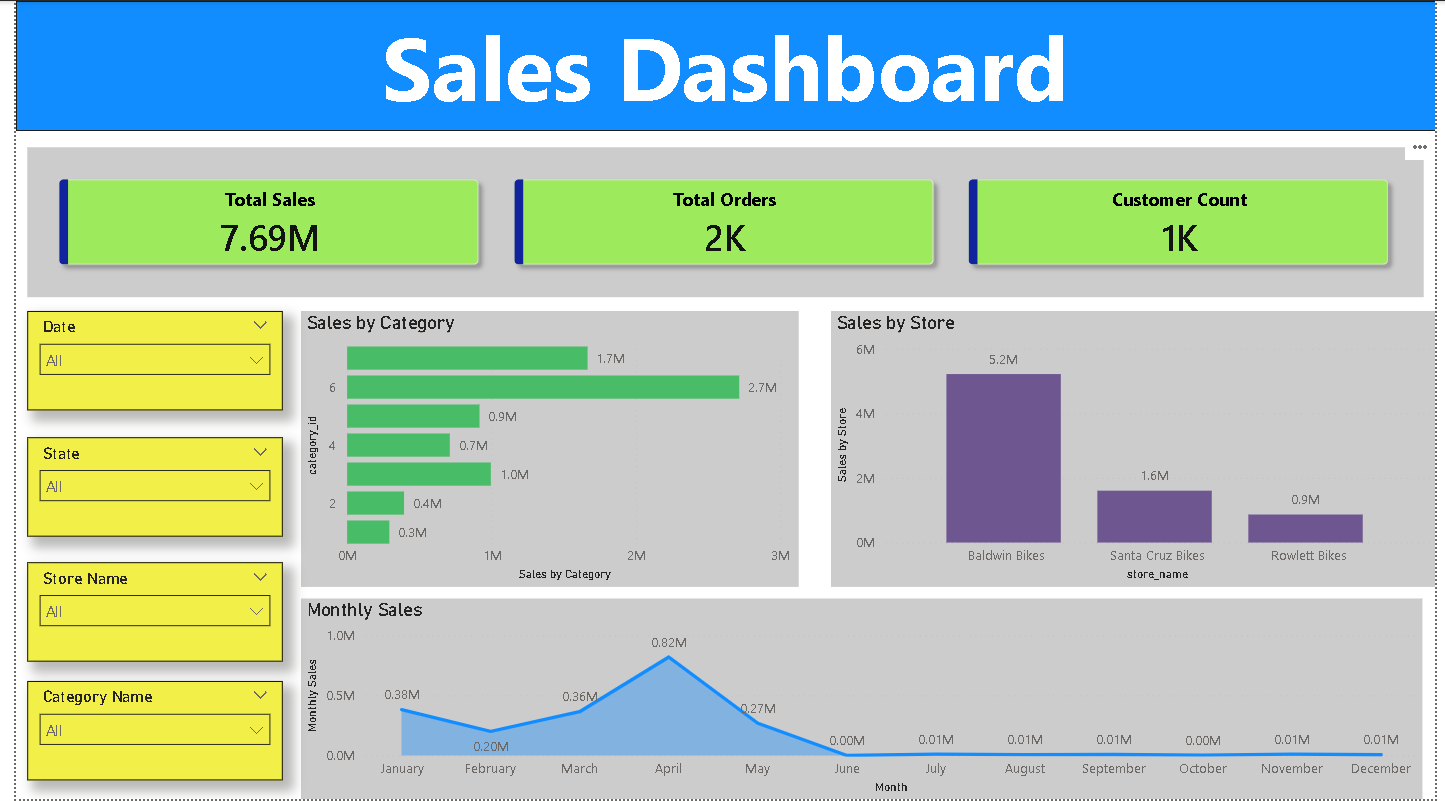

The page's visual inventory and layout, read from the dashboard file:
{"tool":"powerbi","page":{"name":"Sales Dashboard","canvas":[1280,720],"ordinal":0},"visuals":[{"type":"cardVisual","fields":{"Data":["DAX.Total Sales","DAX.Total Orders","DAX.Customer Count"]},"box":[10,131.9,1258.9,135.6],"z":0},{"type":"clusteredBarChart","title":"Sales by Category","fields":{"Category":["products.category_id"],"Y":["DAX.Sales by Category"]},"box":[257.5,279.9,449.1,248.8],"z":1000},{"type":"columnChart","title":"Sales by Store ","fields":{"Y":["DAX.Sales by Store"],"Category":["stores.store_name"]},"box":[735.2,279.9,544.9,248.8],"z":2000},{"type":"areaChart","title":"Monthly Sales","fields":{"Category":["orders.order_date.Variation.Date Hierarchy.Year","orders.order_date.Variation.Date Hierarchy.Month","orders.order_date.Variation.Date Hierarchy.Day"],"Y":["DAX.Monthly Sales"]},"box":[257.5,538.6,1011.3,181.6],"z":3000},{"type":"slicer","fields":{"Values":["orders.order_date"]},"box":[10,279.9,230.1,89.6],"z":4000},{"type":"slicer","fields":{"Values":["stores.state"]},"box":[10,393.1,230.1,89.6],"z":5000},{"type":"slicer","fields":{"Values":["stores.store_name"]},"box":[10,506.3,230.1,89.6],"z":6000},{"type":"slicer","fields":{"Values":["categories.category_name"]},"box":[10,613.3,230.1,89.6],"z":7000},{"type":"textbox","box":[0,0,1280,116.9],"z":8000}]}

Visuals, with their boxes in screenshot pixels (x1, y1, x2, y2), scaled from the page's 1280x720 canvas onto the 1445x801 screenshot:
cardVisual - DAX.Total Sales x DAX.Total Orders: bbox(11, 147, 1432, 298)
"Sales by Category" clusteredBarChart: bbox(291, 311, 798, 588)
"Sales by Store " columnChart: bbox(830, 311, 1444, 588)
"Monthly Sales" areaChart: bbox(291, 599, 1432, 800)
slicer - orders.order_date: bbox(11, 311, 271, 411)
slicer - stores.state: bbox(11, 437, 271, 537)
slicer - stores.store_name: bbox(11, 563, 271, 663)
slicer - categories.category_name: bbox(11, 682, 271, 782)
textbox: bbox(0, 0, 1444, 130)
